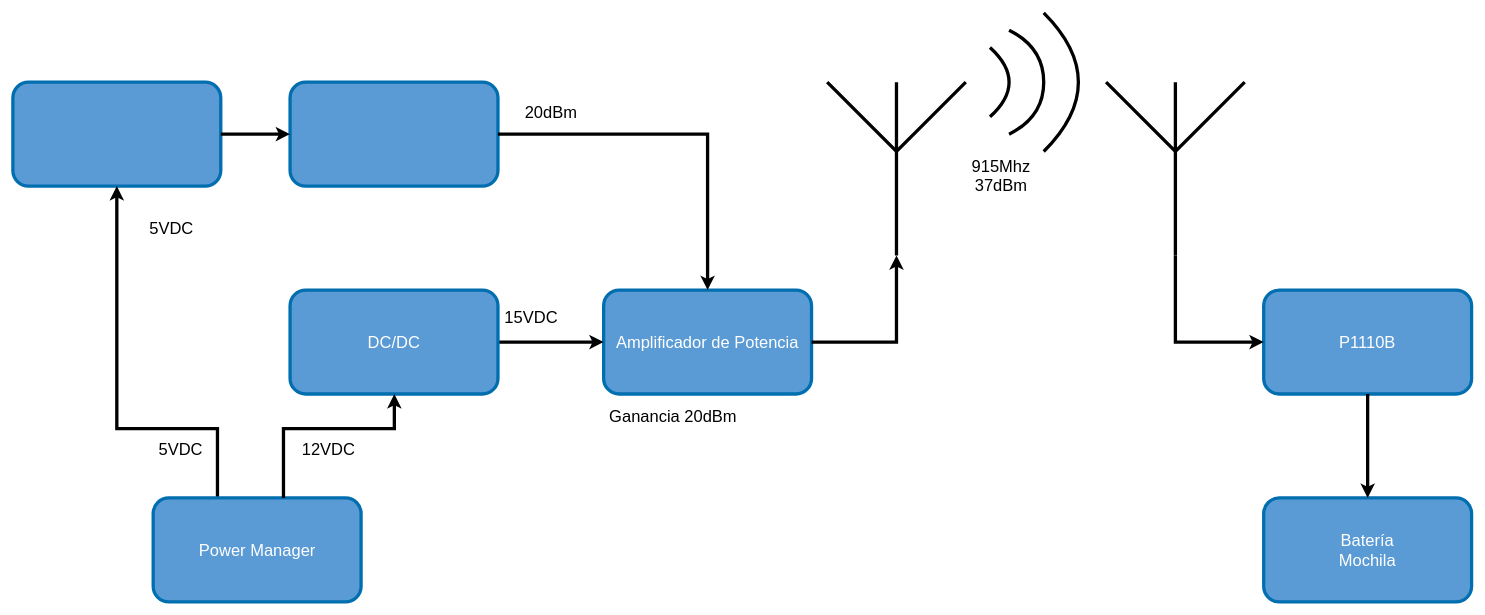
Image size: 1485x615. Some labels were removed from this diagram. The centre of each missing label's shape, as x and y in pixels:
Oscilador 915Mhz: point (393, 133)
Raspberry Pi: point (116, 133)
